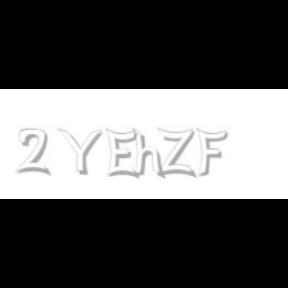2: (15, 128, 49, 176)
E: (106, 128, 138, 180)
F: (196, 128, 228, 178)
Y: (57, 128, 103, 176)
Z: (158, 128, 195, 178)
h: (132, 128, 168, 180)
